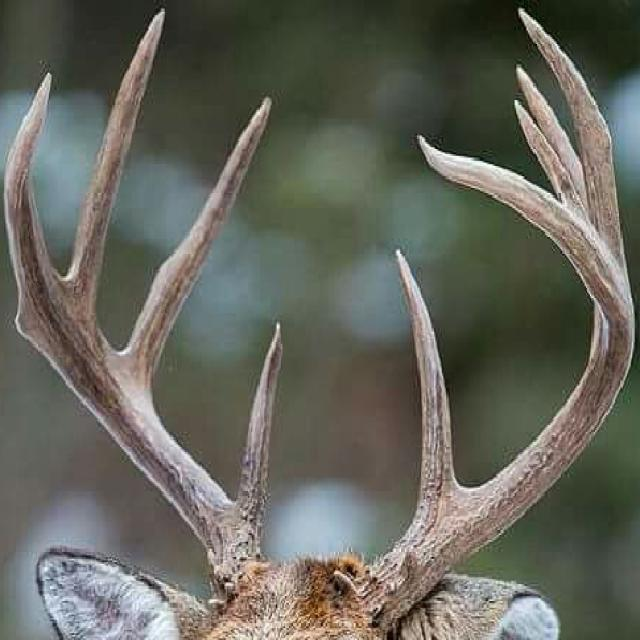L-F: (332, 128, 637, 637)
L-G1: (392, 245, 460, 518)
L-G2: (516, 3, 631, 283)
L-G3: (513, 95, 590, 224)
R-F: (2, 67, 269, 611)
R-G1: (235, 315, 285, 541)
R-G2: (120, 94, 274, 400)
R-G3: (66, 4, 169, 328)
